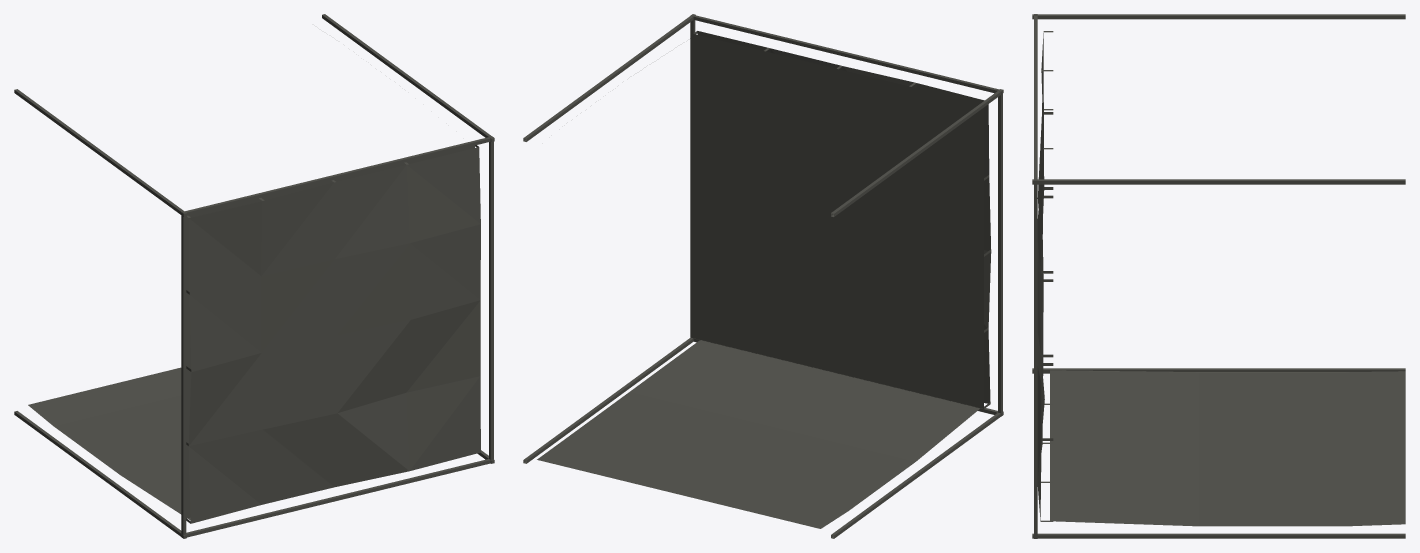
3 renders of one model, left to right at view 1: azimuth 30°, elevation 25°; view 2: azimuth 150°, elevation 25°; view 3: azimuth 270°, elevation 25°, orthographic. The views are drawn at different scales.
Bounding box in the file's own units: 0.896 × 0.896 × 0.8465.
